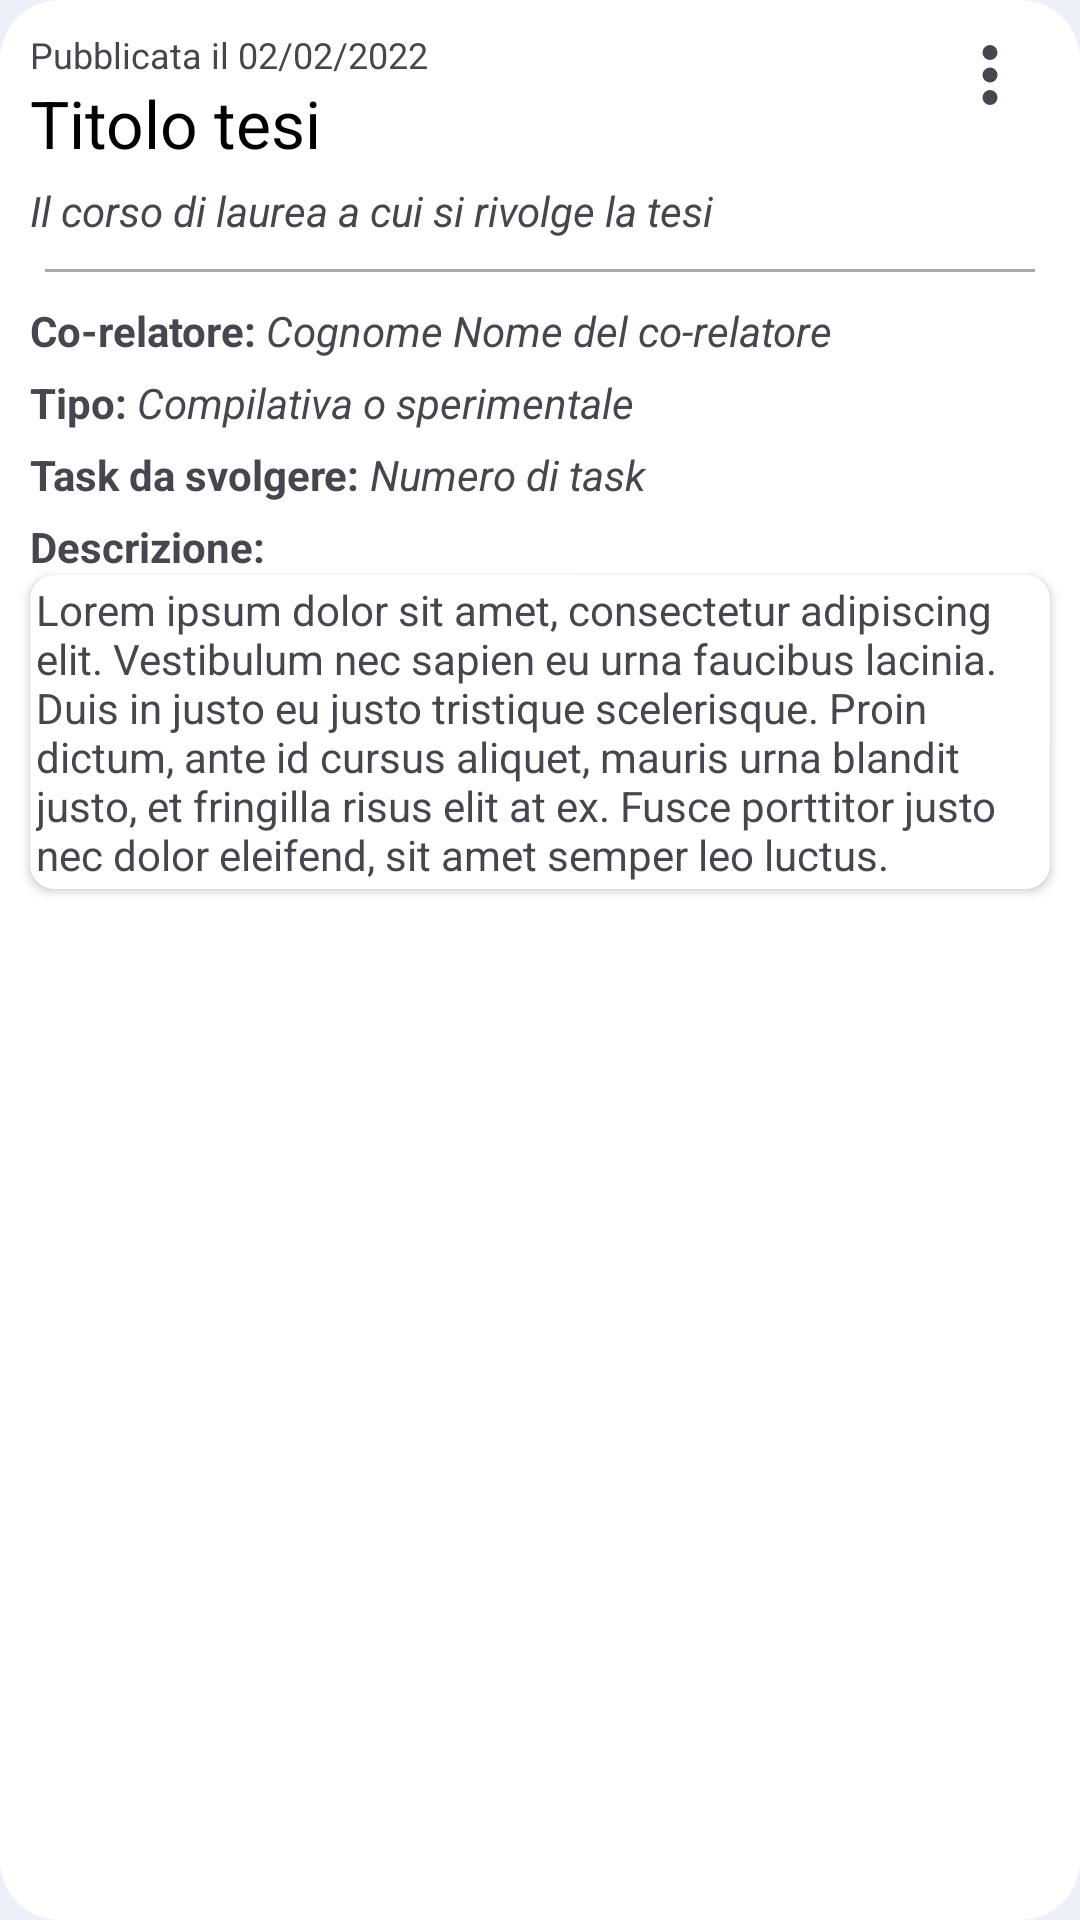

Screen size 1080 × 1920. Icon name, then its box in pixels as (x1, y1, x2, y2):
more: (982, 45, 998, 105)
